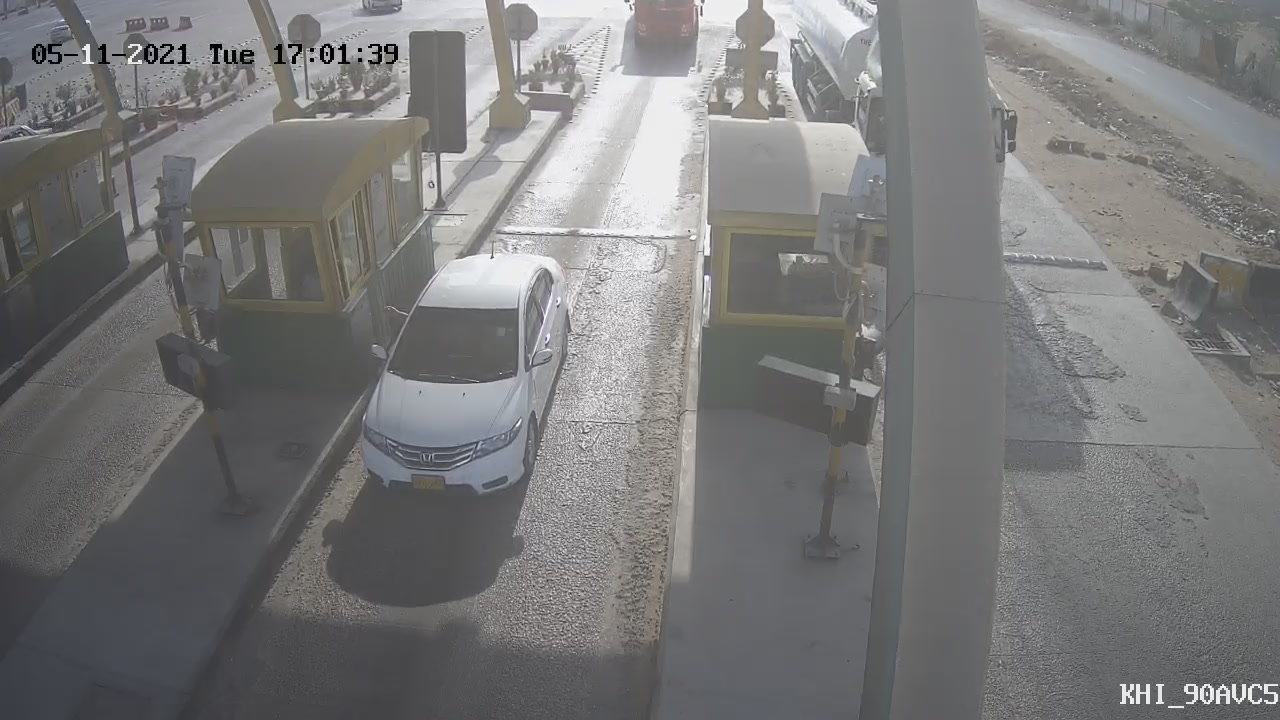F1: (324, 227, 598, 525)
